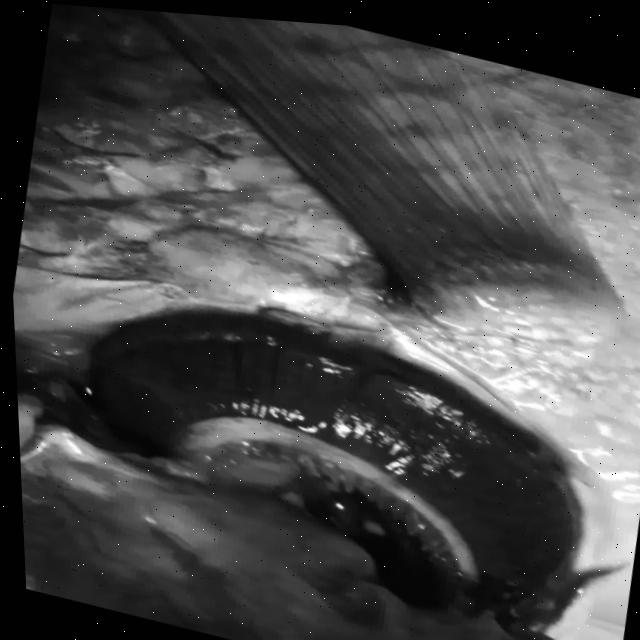Non-Fresh: (7, 208, 640, 640)
